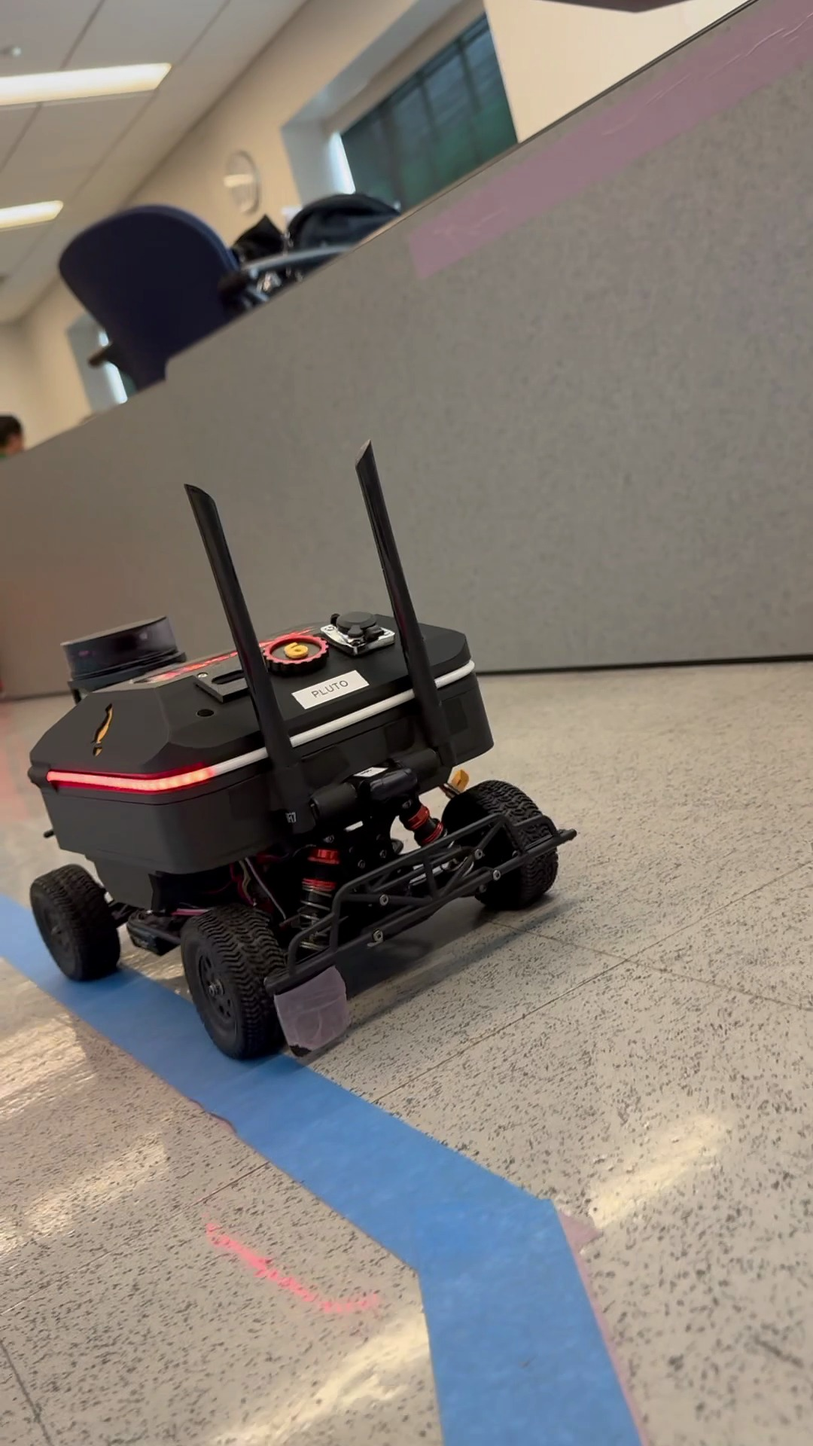racecar: (22, 449, 574, 1064)
